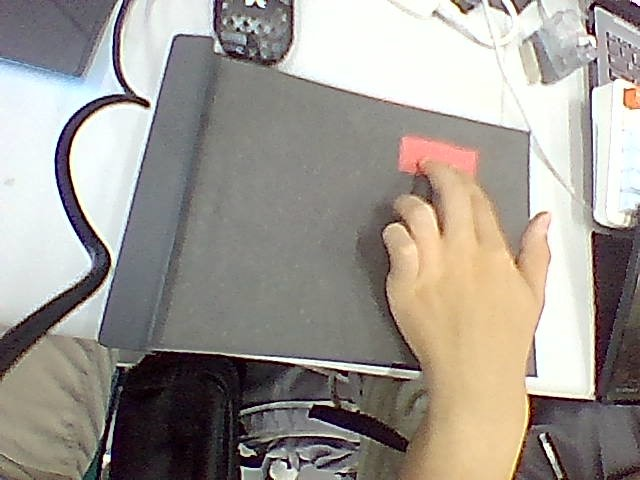card: (398, 135, 477, 174)
